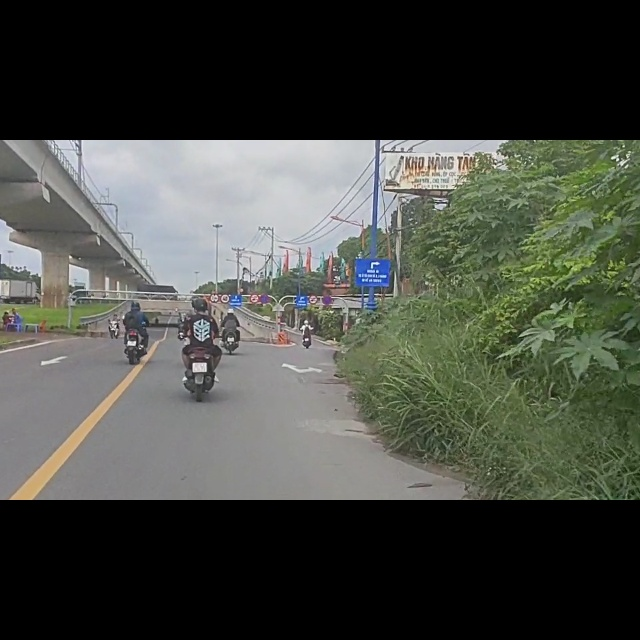bien_nguy_hiem: (322, 276, 333, 294), (308, 274, 318, 293), (220, 274, 230, 290), (260, 275, 270, 290), (210, 273, 219, 289), (251, 274, 259, 289)
